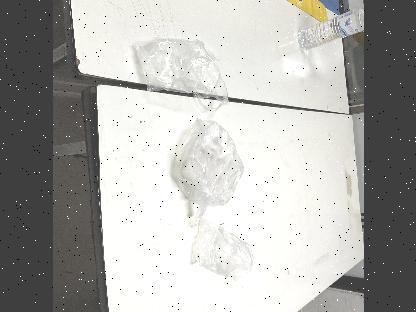Others: (166, 115, 244, 218), (134, 40, 233, 110), (184, 216, 254, 282)
